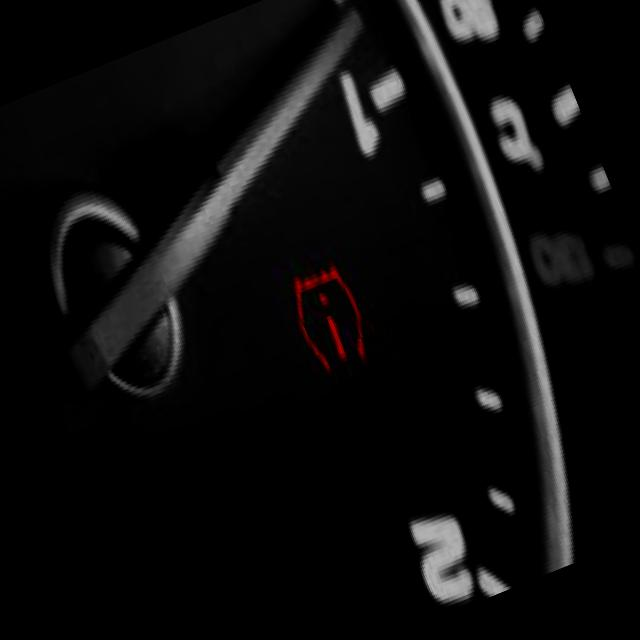kontrolka: (256, 223, 402, 412)
